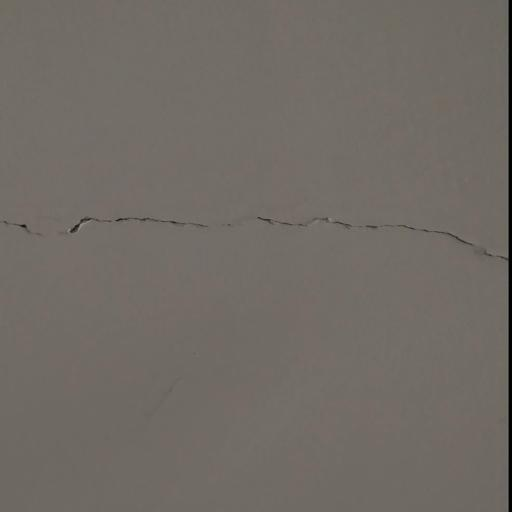minor_crack: (0, 189, 512, 279)
